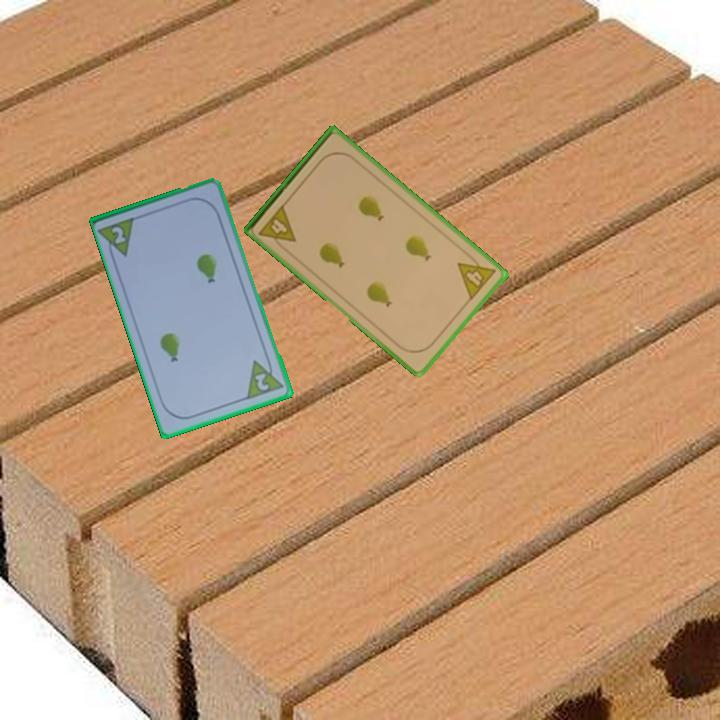2p: (251, 370, 272, 394), (108, 223, 129, 247)
4p: (454, 249, 499, 303), (255, 201, 299, 254)
